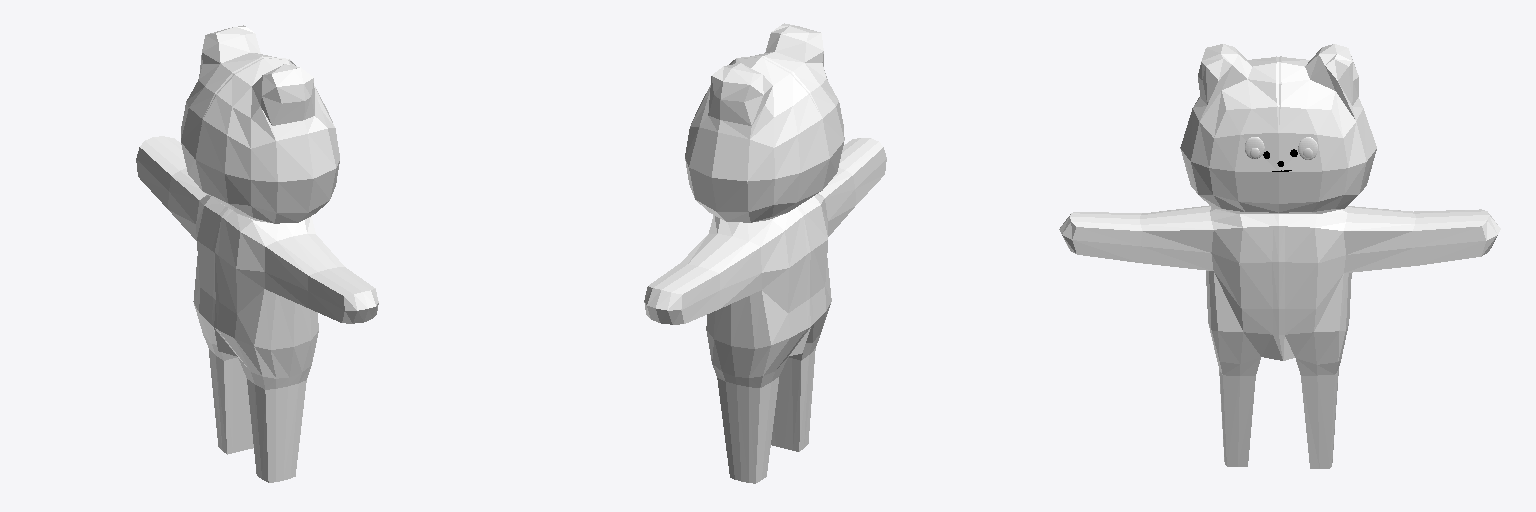
3 views of the same model, side by side, from view 1: azimuth 30°, elevation 25°; view 2: azimuth 150°, elevation 25°; view 3: azimuth 270°, elevation 25° (orthographic).
Visible parts, largest first — view 1: 立方体.002; view 2: 立方体.002; view 3: 立方体.002.
Part boxes in pixels (bbox=[...]): 立方体.002: bbox=[136, 25, 378, 482]; 立方体.002: bbox=[644, 23, 886, 483]; 立方体.002: bbox=[1059, 44, 1500, 468].
Size of the model in its own units: 1.68 by 5.4 by 5.24.
4 materials, 1 textured.